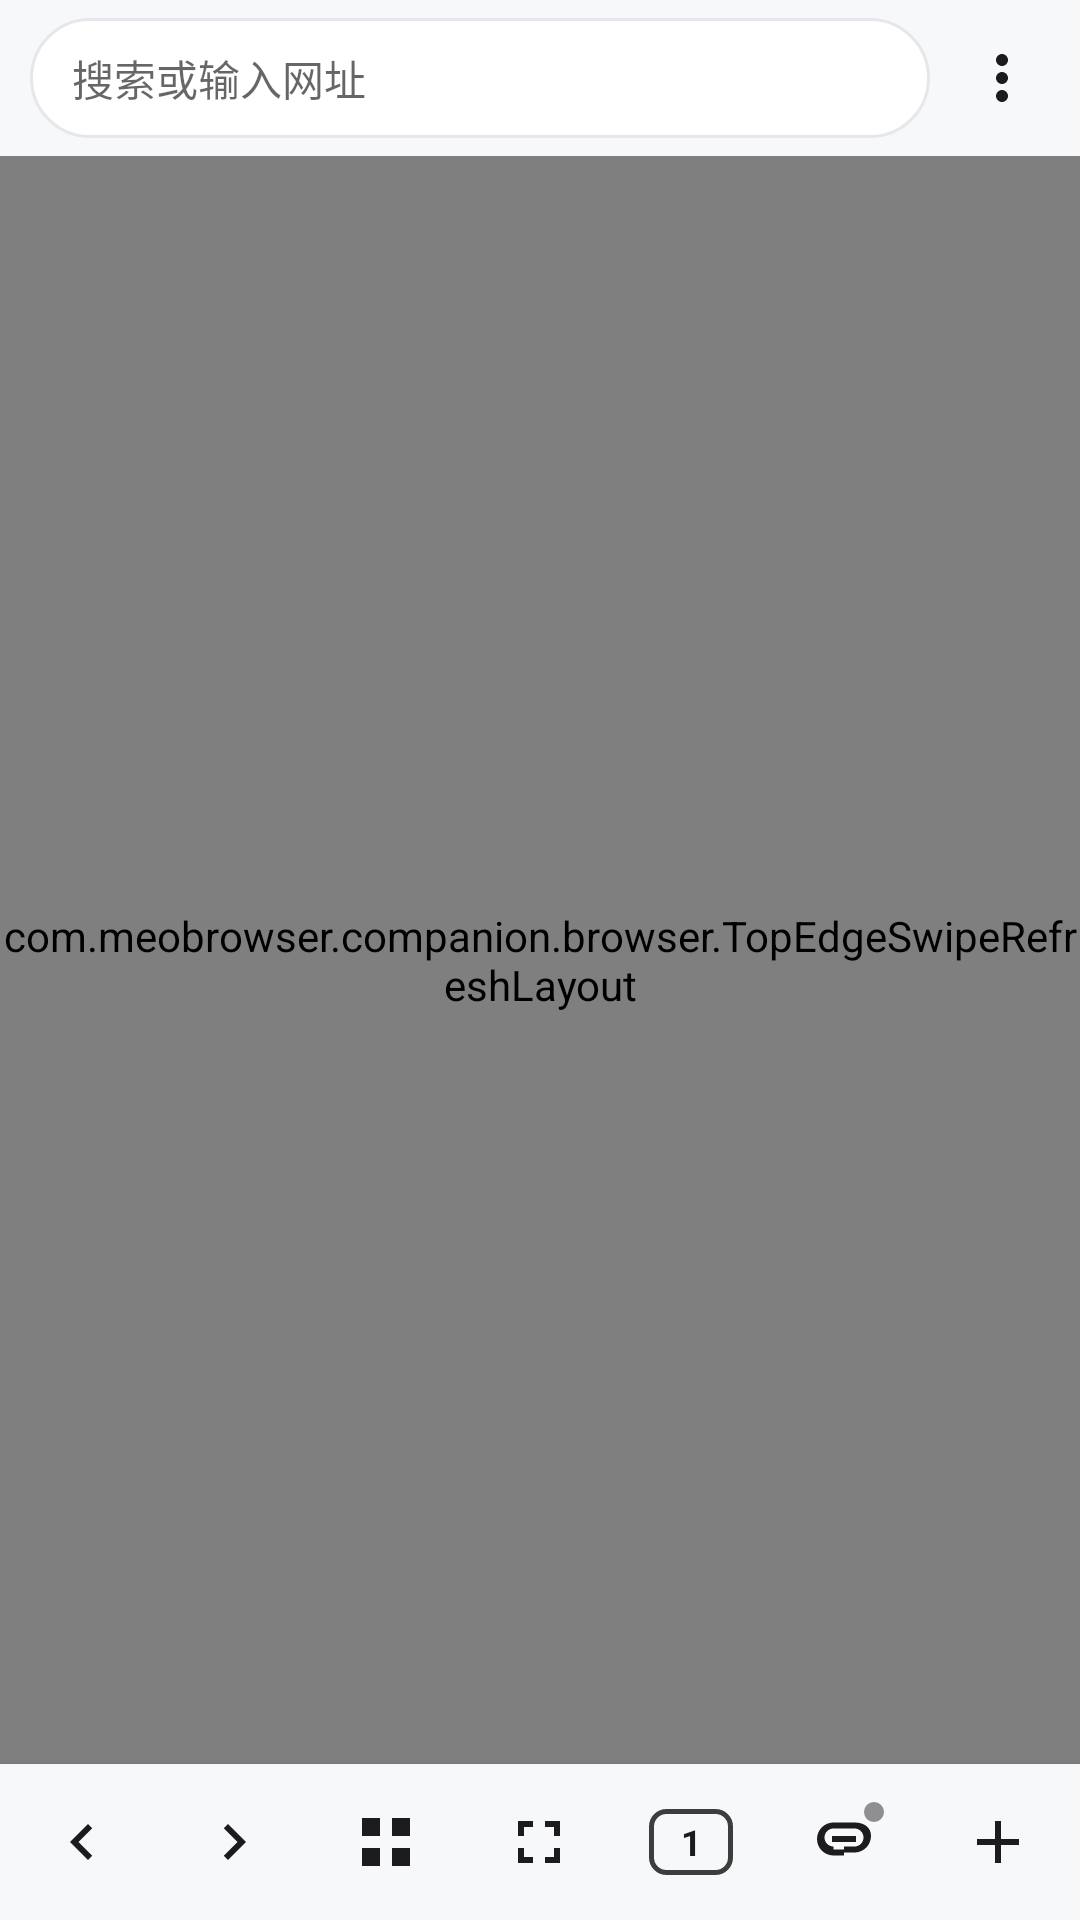

Named icons in this screenshot (1080 × 1920) and their bounding boxes, bbox(x1, y1, x2, y2):
link: bbox(817, 1806, 880, 1856)
全屏: bbox(518, 1821, 560, 1863)
前进: bbox(224, 1824, 246, 1860)
功能: bbox(362, 1818, 410, 1866)
后退: bbox(70, 1824, 92, 1860)
新标签: bbox(977, 1821, 1019, 1863)
菜单: bbox(996, 54, 1008, 102)
